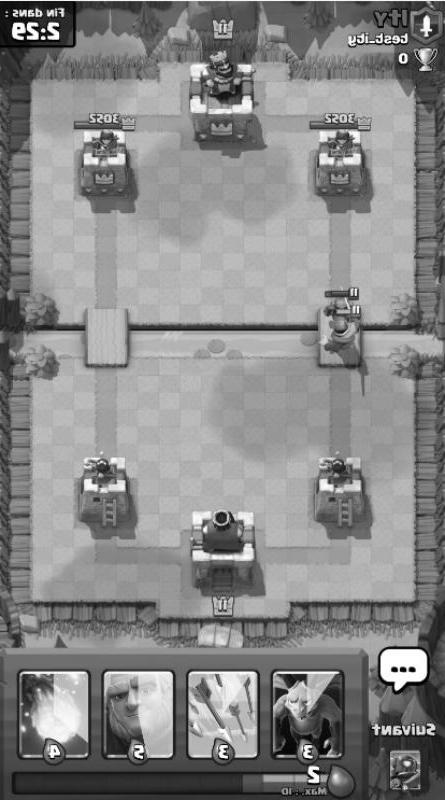chevalier: (318, 286, 362, 354)
mini_PEKKA: (322, 287, 360, 321)
